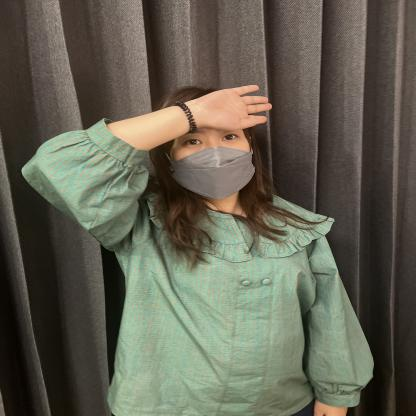Sick: (89, 60, 315, 195)
